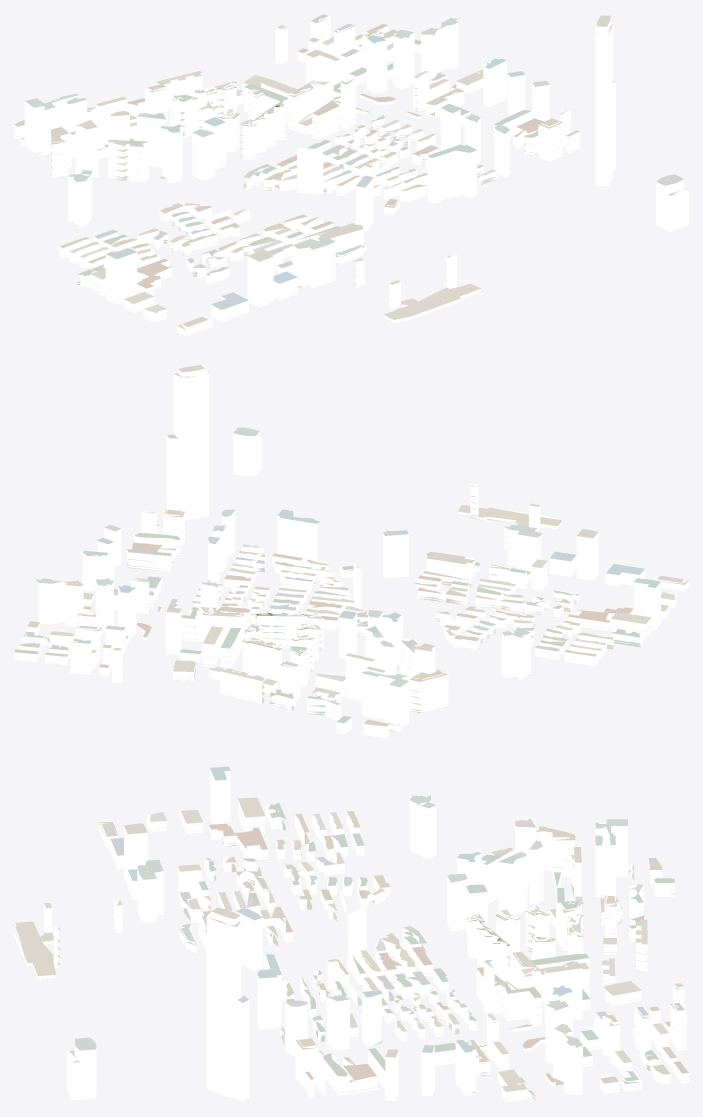
Rendered from buildings--2_0-coarse.glb.
The picture shows the model from 3 angles, top to bottom: view 1: azimuth 30°, elevation 25°; view 2: azimuth 150°, elevation 25°; view 3: azimuth 270°, elevation 25°; orthographic projection. The views are drawn at different scales.
Visible parts, largest first — view 1: block_-2_0_office, block_-2_0_residential, block_-2_0_roof; view 2: block_-2_0_residential, block_-2_0_office, block_-2_0_roof; view 3: block_-2_0_residential, block_-2_0_office, block_-2_0_roof.
Part boxes in pixels (bbox=[...]): block_-2_0_office: bbox=[24, 18, 688, 336]; block_-2_0_residential: bbox=[14, 15, 579, 322]; block_-2_0_roof: bbox=[14, 14, 686, 336]; block_-2_0_residential: bbox=[14, 483, 675, 737]; block_-2_0_office: bbox=[38, 368, 688, 729]; block_-2_0_roof: bbox=[14, 365, 688, 736]; block_-2_0_residential: bbox=[14, 800, 688, 1102]; block_-2_0_office: bbox=[66, 769, 627, 1101]; block_-2_0_roof: bbox=[15, 766, 688, 1101].
Bounding box in the file's own units: 655 × 190 × 647.
